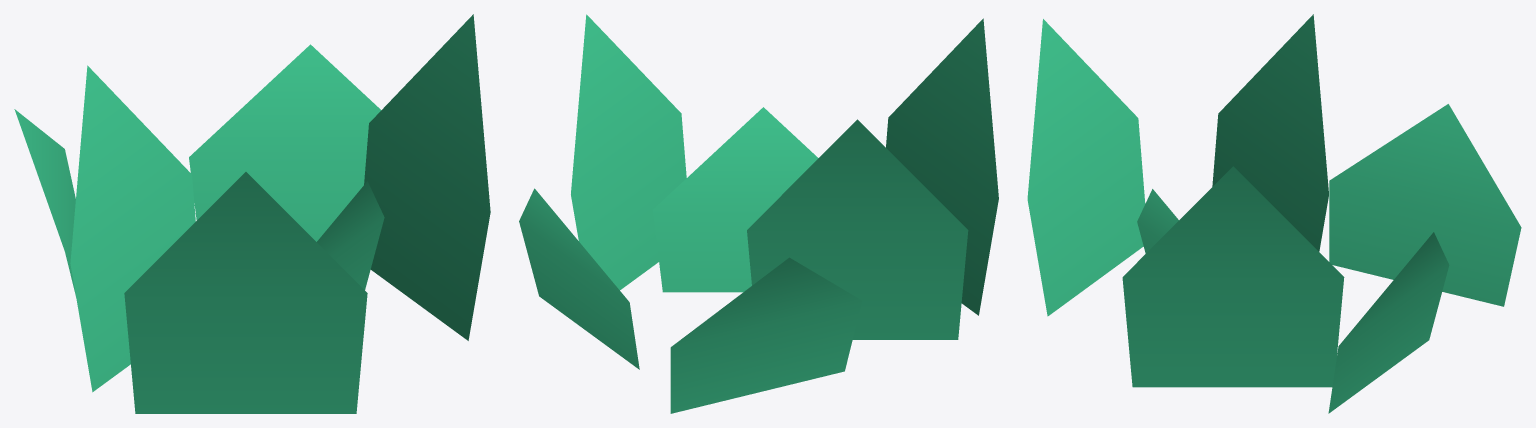
Rendered from survival-grass.glb.
3 views of the same model, side by side, from view 1: azimuth 30°, elevation 25°; view 2: azimuth 150°, elevation 25°; view 3: azimuth 270°, elevation 25° (orthographic). The views are drawn at different scales.
Visible parts, largest first — view 1: grass; view 2: grass; view 3: grass.
Boxes of the visible parts, left/top/right/bottom form: grass: left=14, top=14, right=490, bottom=413; grass: left=519, top=14, right=998, bottom=413; grass: left=1027, top=14, right=1521, bottom=413.
Size of the model in its own units: 0.2345 by 0.1425 by 0.2573.
